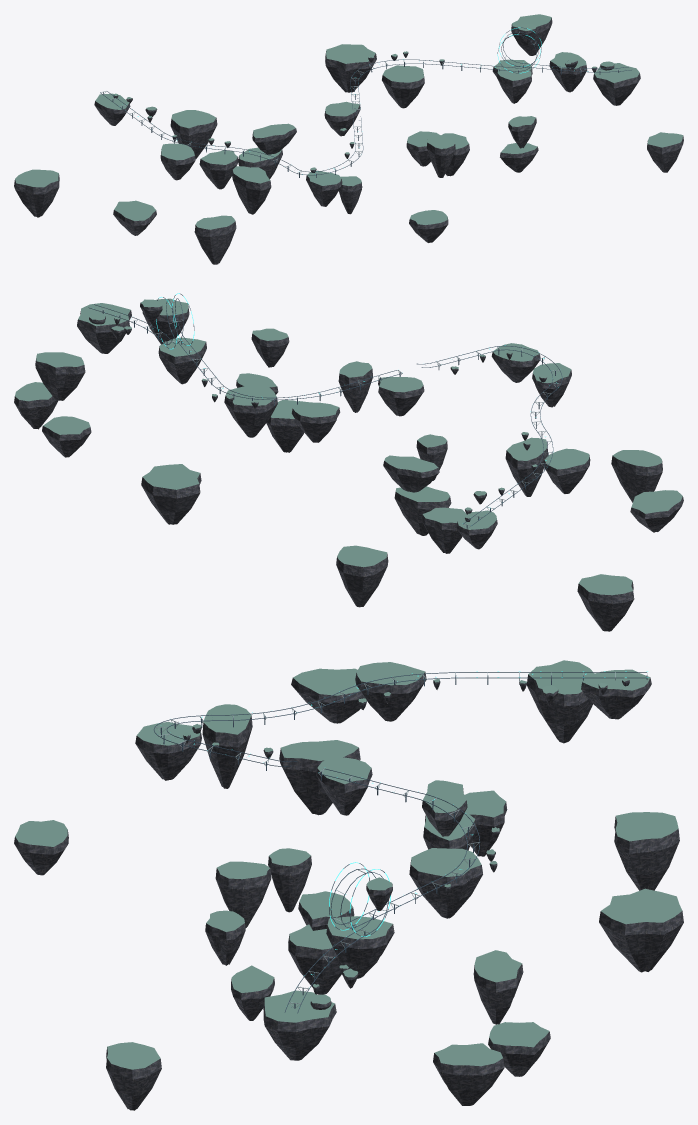
Rendered from environment.glb.
The picture shows the model from 3 angles, top to bottom: view 1: azimuth 30°, elevation 25°; view 2: azimuth 150°, elevation 25°; view 3: azimuth 270°, elevation 25°; orthographic projection. The views are drawn at different scales.
Parts seen in each view (by area): view 1: energy-core_Base_735_Cliff, energy-core_Base_735_Crown, Deck_spine, Cross_tie; view 2: energy-core_Base_735_Cliff, energy-core_Base_735_Crown, Deck_spine, Cross_tie; view 3: energy-core_Base_735_Cliff, energy-core_Base_735_Crown, Deck_spine, Cross_tie.
Boxes of the visible parts, bbox=[...] form: energy-core_Base_735_Cliff: bbox=[14, 18, 683, 264]; energy-core_Base_735_Crown: bbox=[15, 14, 683, 229]; Deck_spine: bbox=[100, 27, 631, 177]; Cross_tie: bbox=[100, 32, 619, 175]; energy-core_Base_735_Cliff: bbox=[14, 303, 683, 631]; energy-core_Base_735_Crown: bbox=[15, 298, 682, 595]; Deck_spine: bbox=[88, 293, 562, 528]; Cross_tie: bbox=[100, 301, 560, 528]; energy-core_Base_735_Cliff: bbox=[14, 672, 683, 1110]; energy-core_Base_735_Crown: bbox=[15, 660, 682, 1069]; Deck_spine: bbox=[153, 672, 647, 1013]; Cross_tie: bbox=[155, 672, 647, 1008].
Bounding box in the file's own units: 726 × 171 × 472.
5 materials, 1 textured.
